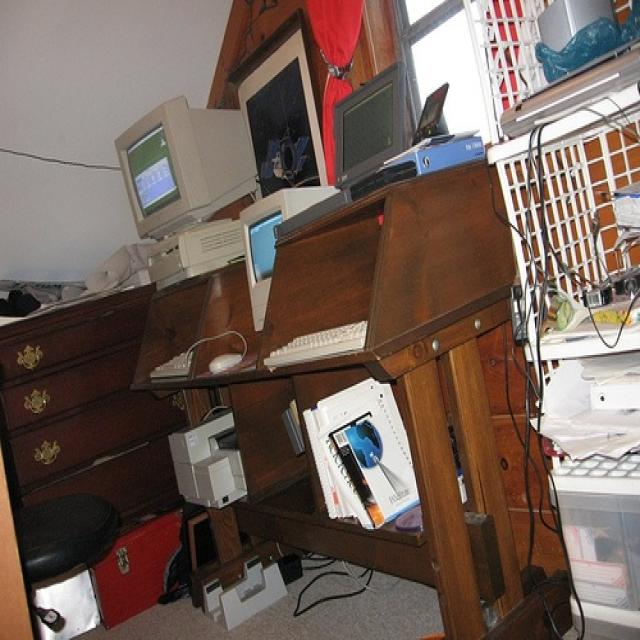tvmonitor: (112, 95, 258, 242)
